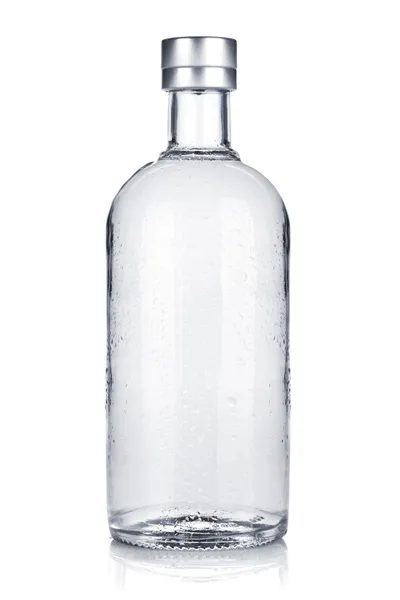glass_bottle: (88, 23, 327, 568)
